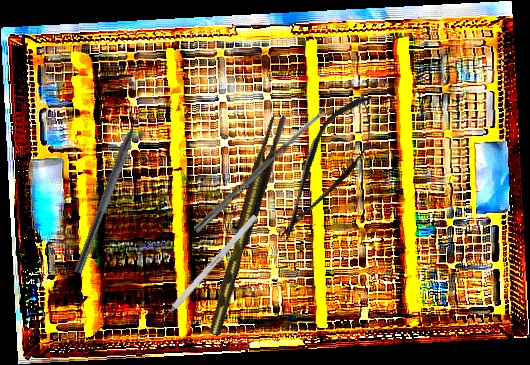Chopper: (73, 99, 156, 280)
Hook Surgical: (151, 213, 259, 332)
Micro Scissor: (260, 82, 393, 254)
Surgical Spoon: (193, 106, 330, 234)
Tissue Forceps: (197, 112, 294, 337)
